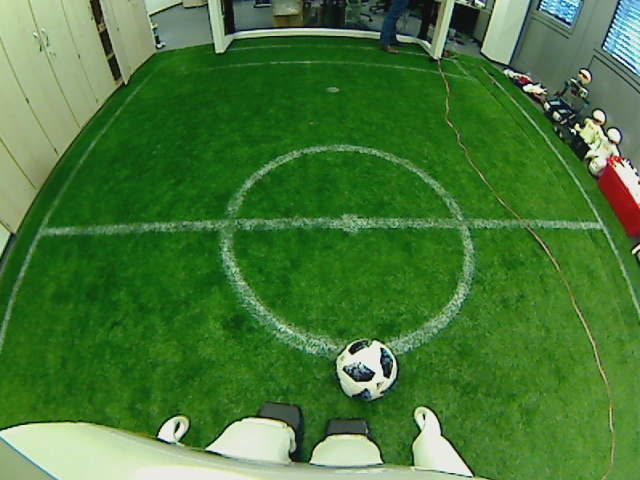ball: (334, 338, 397, 401)
